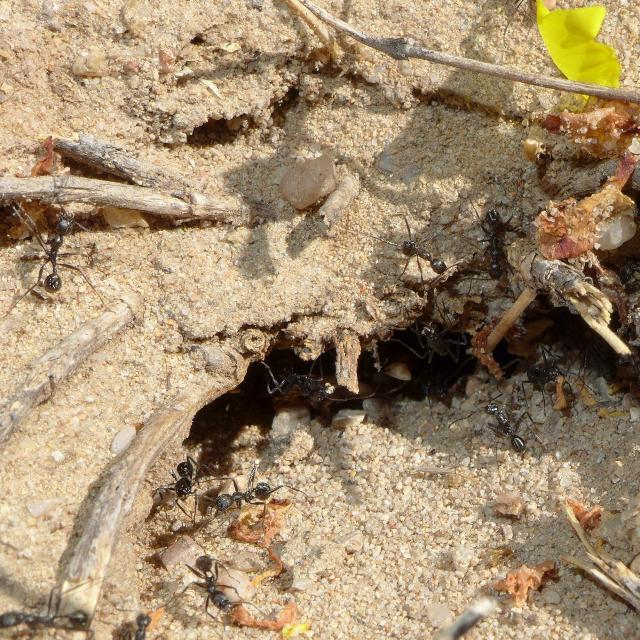Apheanogaster: (31, 204, 85, 298), (0, 589, 96, 639), (183, 546, 244, 622), (537, 104, 607, 160), (261, 358, 337, 406), (473, 200, 517, 282), (208, 470, 280, 520), (480, 398, 534, 460), (412, 317, 478, 361), (164, 454, 208, 511), (398, 232, 452, 276), (524, 354, 568, 391), (122, 608, 158, 640)
